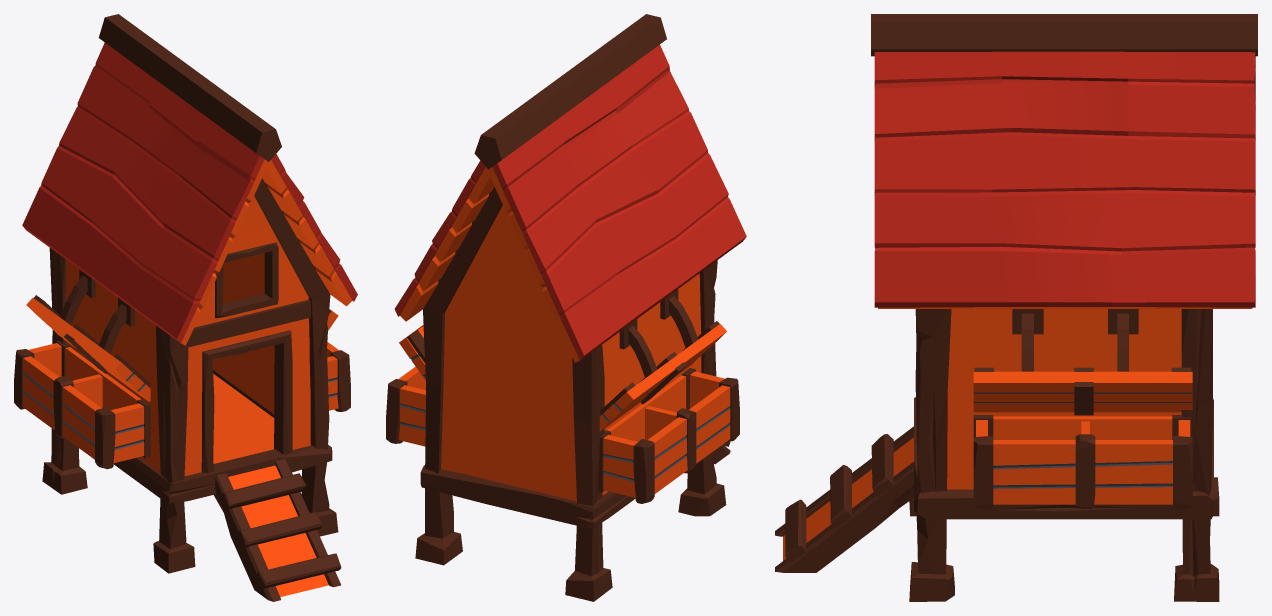
The model's file is Henhouse.001_3.fbx.
3 views of the same model, side by side, from view 1: azimuth 30°, elevation 25°; view 2: azimuth 150°, elevation 25°; view 3: azimuth 270°, elevation 25° (orthographic). The views are drawn at different scales.
Visible parts, largest first — view 1: Henhouse.001_3; view 2: Henhouse.001_3; view 3: Henhouse.001_3.
Boxes of the visible parts, x1,y1,x2,y2 form: Henhouse.001_3: (14, 14, 357, 601); Henhouse.001_3: (386, 14, 746, 601); Henhouse.001_3: (775, 14, 1257, 601).
Size of the model in its own units: 58.06 by 97.2 by 79.7.
